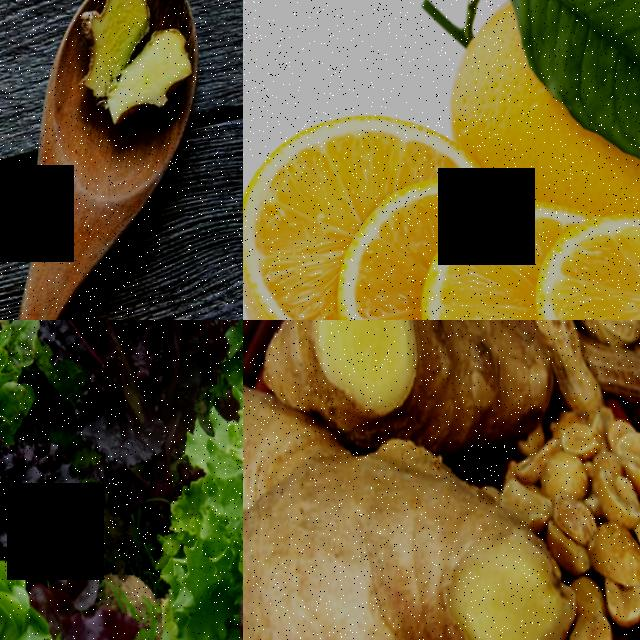ginger: (243, 419, 558, 640), (274, 320, 501, 468), (68, 0, 199, 141)
lemon: (243, 101, 461, 320)
lettuce: (139, 338, 243, 640)
peanuts: (534, 320, 591, 418), (586, 339, 640, 419), (577, 320, 640, 357)
